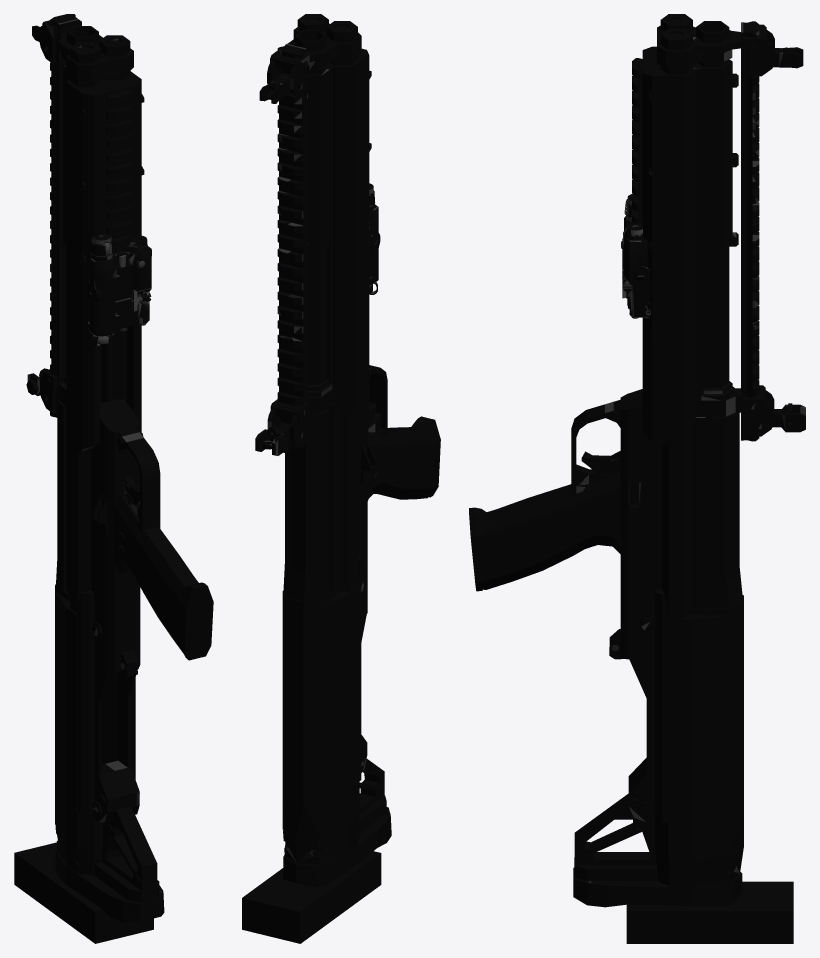
The model's file is KSG__Laser_Rifle__RecoilPad_Rubber.fbx.
The picture shows the model from 3 angles, left to right: view 1: azimuth 30°, elevation 25°; view 2: azimuth 150°, elevation 25°; view 3: azimuth 270°, elevation 25°; orthographic projection. The views are drawn at different scales.
Parts seen in each view (by area): view 1: asset_KSG.001; view 2: asset_KSG.001; view 3: asset_KSG.001.
Part boxes in pixels (x1,y1,x2,y2): asset_KSG.001: (14, 14, 213, 943); asset_KSG.001: (242, 14, 440, 943); asset_KSG.001: (469, 14, 805, 943).
Size of the model in its own units: 0.03 by 0.411 by 0.139.
